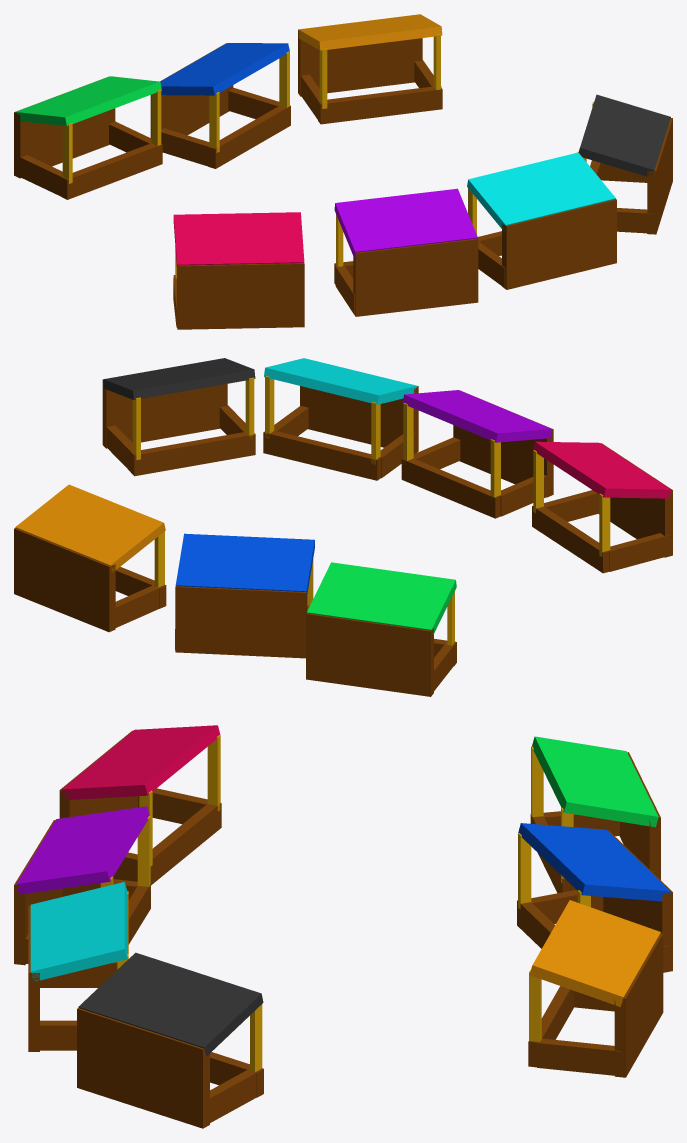
Rendered from market.fbx.
3 renders of one model, top to bottom at view 1: azimuth 30°, elevation 25°; view 2: azimuth 150°, elevation 25°; view 3: azimuth 270°, elevation 25°, orthographic. The views are drawn at different scales.
Visible parts, largest first — view 1: Cube.012, Cube.001, Cube.015, Cube.006, Cube.007, Cube.020, Cube.021, Cube.040, Cube.034, Cube.042, Cube.047, Cube.035 (+19 smaller); view 2: Cube.029, Cube.047, Cube.042, Cube.034, Cube.040, Cube.035, Cube.026, Cube.007, Cube.006, Cube.015, Cube.020, Cube.021 (+26 smaller); view 3: Cube.026, Cube.021, Cube.035, Cube.020, Cube.042, Cube.006, Cube.034, Cube.007, Cube.040, Cube.038, Cube.013, Cube.029 (+20 smaller).
Part boxes in pixels (x1,y1,x2,y2): Cube.012: (177, 263, 304, 329); Cube.001: (353, 238, 478, 316); Cube.015: (502, 199, 616, 289); Cube.006: (334, 188, 477, 258); Cube.007: (173, 212, 304, 271); Cube.020: (467, 152, 615, 230); Cube.021: (578, 94, 670, 176); Cube.040: (298, 30, 422, 96); Cube.034: (160, 43, 289, 95); Cube.042: (15, 76, 161, 126); Cube.047: (14, 78, 115, 178); Cube.035: (298, 14, 442, 50); Cube.029: (175, 586, 307, 658); Cube.047: (306, 613, 433, 696); Cube.042: (306, 562, 456, 634); Cube.034: (175, 533, 314, 597); Cube.040: (14, 528, 115, 632); Cube.035: (15, 484, 165, 572); Cube.026: (102, 379, 227, 448); Cube.007: (533, 441, 670, 498); Cube.006: (402, 390, 552, 442); Cube.015: (300, 386, 418, 452); Cube.020: (264, 358, 417, 404); Cube.021: (103, 358, 255, 399); Cube.026: (77, 1008, 209, 1128); Cube.021: (78, 952, 263, 1056); Cube.035: (529, 900, 660, 1006); Cube.020: (30, 882, 127, 980); Cube.042: (532, 736, 658, 827); Cube.006: (16, 806, 149, 894); Cube.034: (518, 823, 670, 901); Cube.007: (61, 725, 220, 800); Cube.040: (614, 933, 663, 1077); Cube.038: (537, 1038, 622, 1076); Cube.013: (150, 803, 221, 885); Cube.029: (603, 830, 672, 972).
Size of the model in its own units: 5087 by 766 by 4438.
